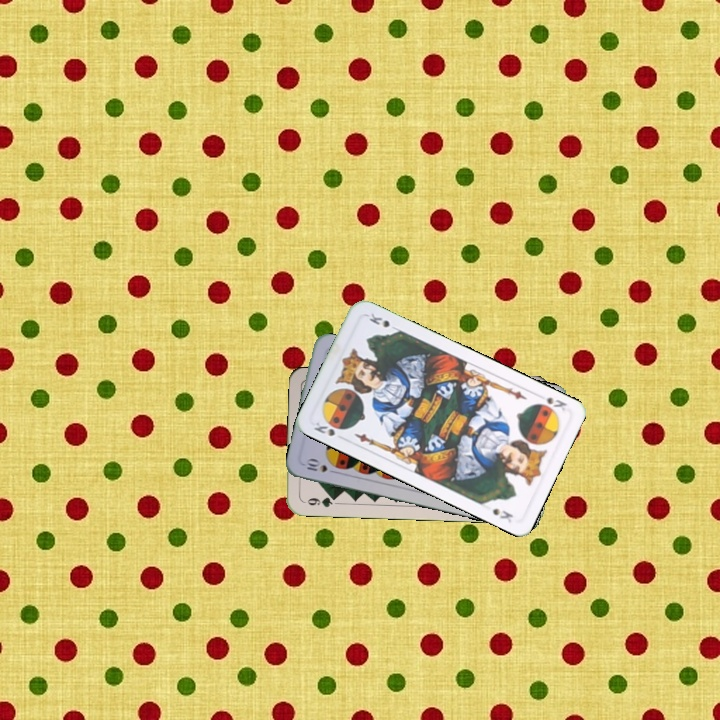G9: (299, 492, 340, 510)
S10: (302, 455, 330, 475)
SK: (533, 390, 570, 414), (310, 416, 337, 439)
